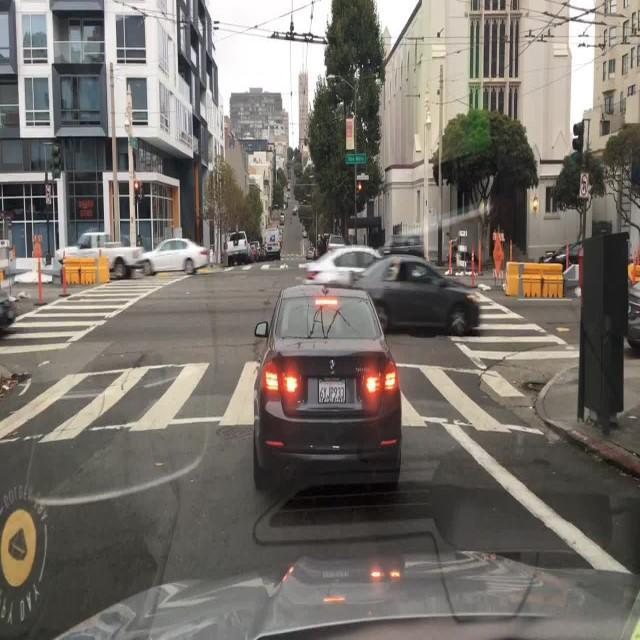normal: (227, 260, 421, 529)
